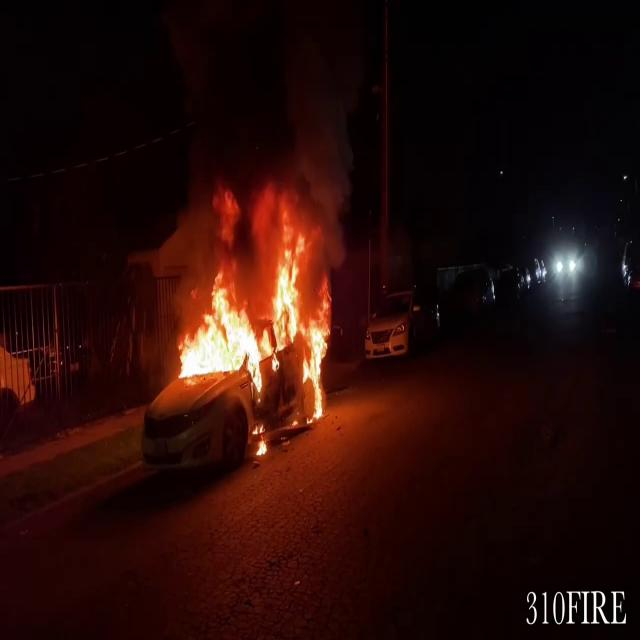Fire: (169, 202, 336, 439)
Smoke: (174, 2, 377, 248)
